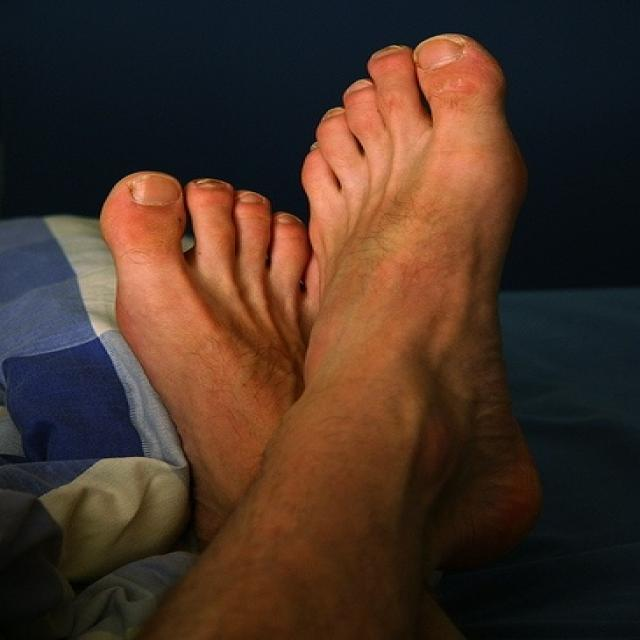piel: (103, 37, 555, 639)
